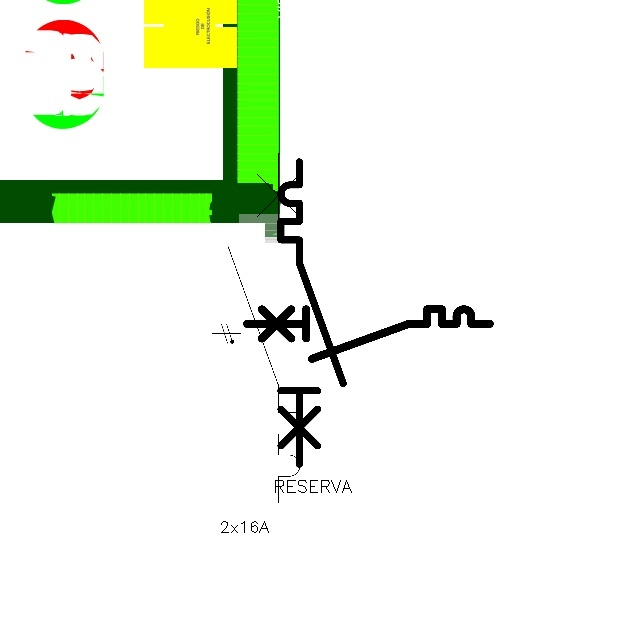interruptor_termomagnetico: (219, 144, 309, 512), (273, 154, 351, 472), (240, 303, 495, 365)
